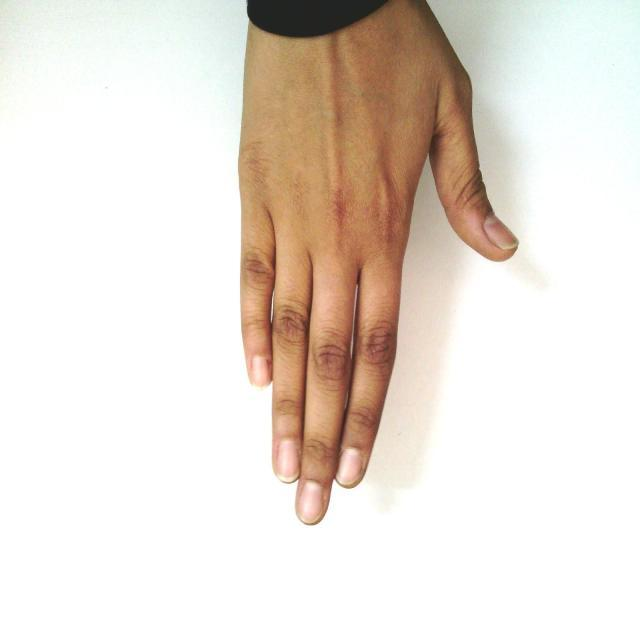Fingernail: (298, 481, 324, 523), (485, 216, 517, 249), (276, 440, 298, 480), (337, 450, 362, 485), (252, 357, 270, 387)
